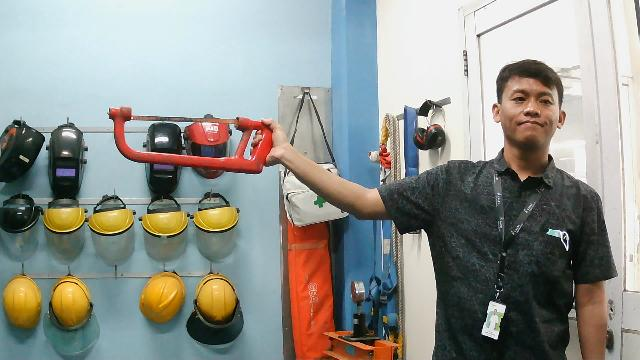gergaji_besi: (105, 104, 276, 178)
